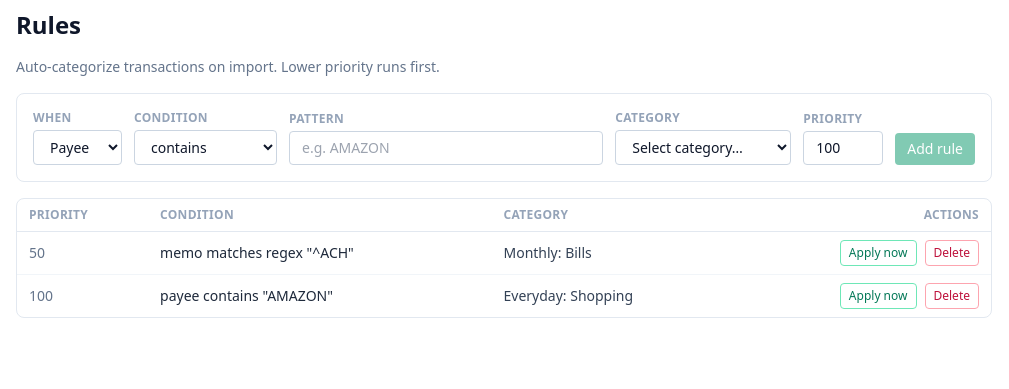
Test: RulesPage › applies a rule and surfaces the server count message via the page wiring
Step 1. Click the button with aria-label "Apply rule 1" → (878, 296), box [840, 283, 916, 309]
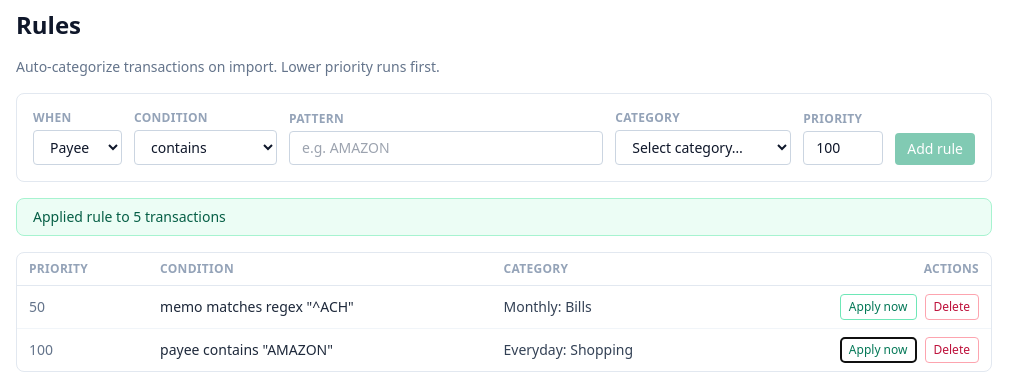
Expected: the message reads "Applied rule to 5 transactions", [33, 207, 226, 226]
